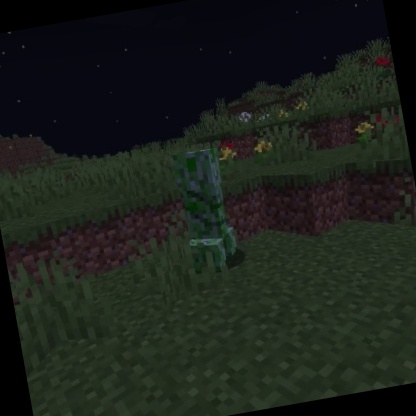creeper: (170, 143, 245, 278)
